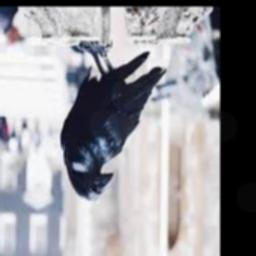Crow: (60, 41, 166, 203)
